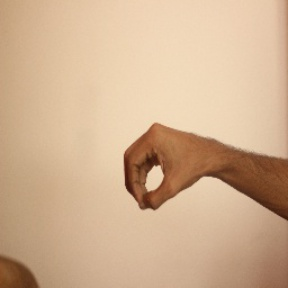O: (120, 119, 202, 212)
